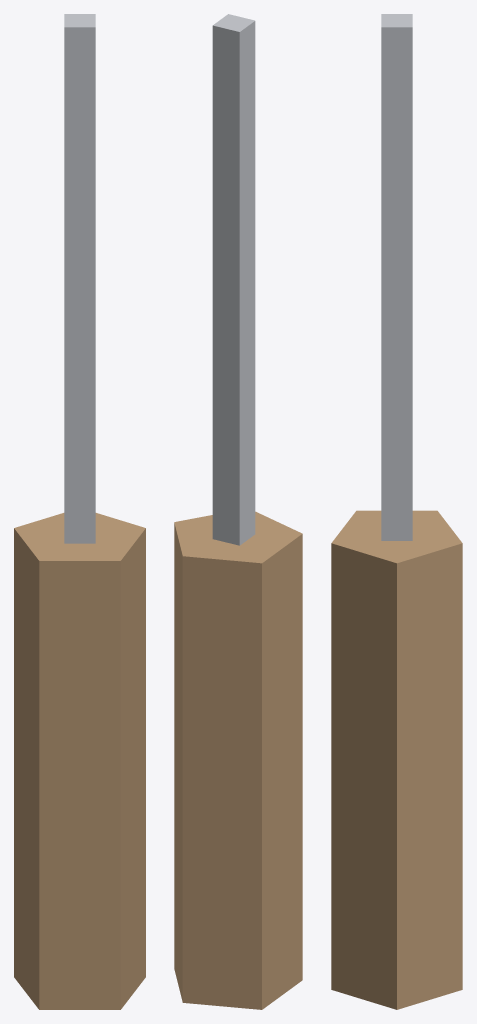
Rendered from prop-scraper-burnisher-cs3.fbx.
3 renders of one model, left to right at view 1: azimuth 90°, elevation 25°; view 2: azimuth 150°, elevation 25°; view 3: azimuth 270°, elevation 25°, orthographic.
Visible parts, largest first — view 1: prop-scraper-burnisher-cs3; view 2: prop-scraper-burnisher-cs3; view 3: prop-scraper-burnisher-cs3.
Part boxes in pixels (left/top/right/bottom): prop-scraper-burnisher-cs3: left=14, top=14, right=145, bottom=1009; prop-scraper-burnisher-cs3: left=174, top=14, right=302, bottom=1009; prop-scraper-burnisher-cs3: left=331, top=14, right=462, bottom=1009.
Size of the model in its own units: 2.53 by 21.5 by 2.66.
